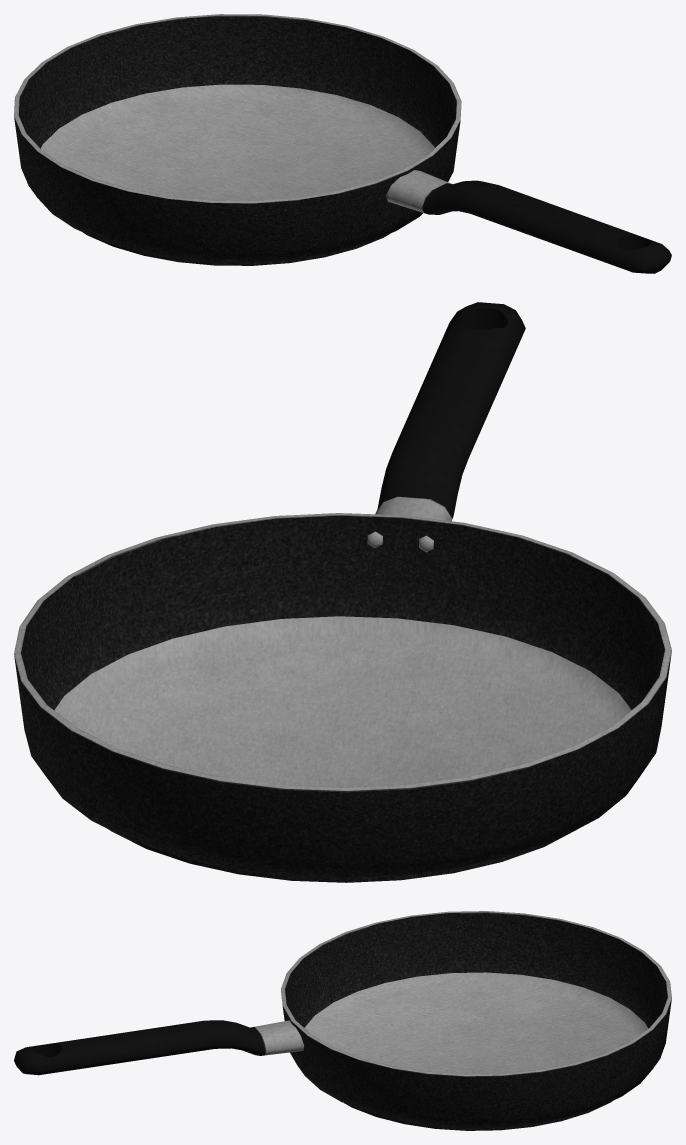
Rendered from pan.glb.
The picture shows the model from 3 angles, top to bottom: view 1: azimuth 30°, elevation 25°; view 2: azimuth 150°, elevation 25°; view 3: azimuth 270°, elevation 25°; orthographic projection. The views are drawn at different scales.
Visible parts, largest first — view 1: Fry_pan, Fry_pan.001; view 2: Fry_pan, Fry_pan.001; view 3: Fry_pan, Fry_pan.001.
Part boxes in pixels (x1,y1,x2,y2): Fry_pan: [14, 14, 461, 265]; Fry_pan.001: [386, 170, 671, 273]; Fry_pan: [14, 513, 671, 882]; Fry_pan.001: [375, 302, 525, 521]; Fry_pan: [281, 911, 671, 1130]; Fry_pan.001: [14, 1020, 303, 1075].
Size of the model in its own units: 0.7037 by 0.1505 by 1.18.
1 material, 1 textured.
